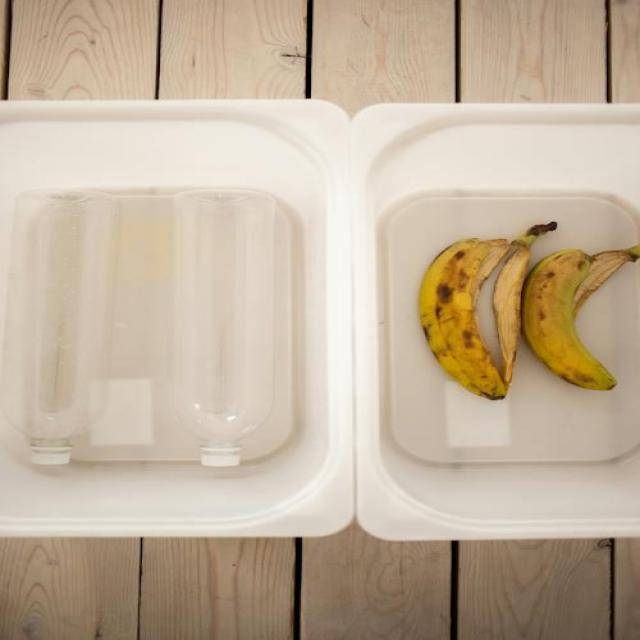plastic: (170, 180, 275, 469), (27, 176, 118, 473)
